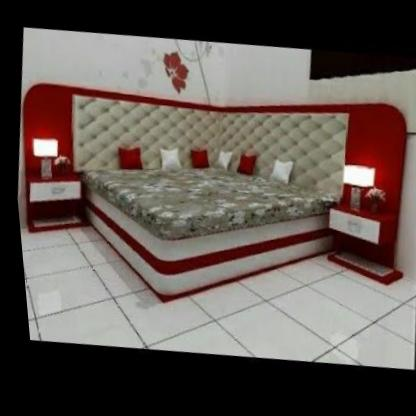Bed: (49, 75, 361, 332)
Lamp: (333, 163, 378, 216), (26, 137, 59, 179)
Nightstand: (312, 204, 397, 287), (12, 163, 82, 235)
